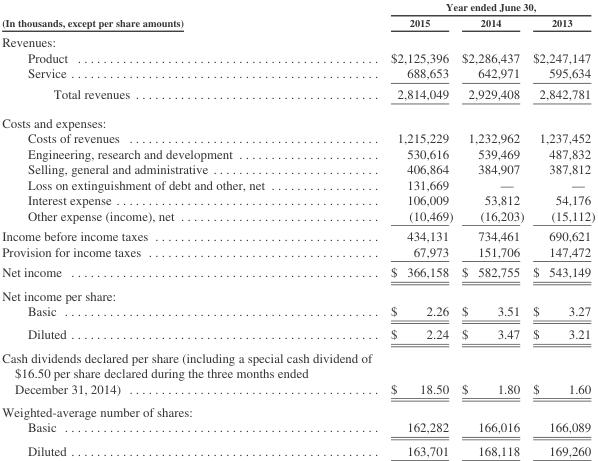table: (1, 0, 594, 457)
table column: (1, 0, 380, 457), (380, 0, 456, 457), (456, 0, 527, 457), (527, 0, 594, 457)
table column header: (1, 0, 594, 31)
table projected row header: (1, 107, 594, 129), (1, 283, 594, 303), (1, 399, 594, 419), (1, 31, 594, 49)
table row: (1, 345, 594, 399), (1, 83, 594, 107), (1, 322, 594, 345), (1, 107, 594, 129), (1, 261, 594, 283), (1, 283, 594, 303), (1, 399, 594, 419), (1, 303, 594, 322), (1, 419, 594, 438), (1, 438, 594, 457), (1, 31, 594, 49), (1, 65, 594, 83), (1, 207, 594, 225), (1, 225, 594, 243), (1, 243, 594, 261), (1, 14, 594, 31), (1, 49, 594, 65), (1, 129, 594, 145), (1, 160, 594, 176), (1, 191, 594, 207), (1, 145, 594, 160), (1, 176, 594, 191), (1, 0, 594, 14)
table spanning cell: (1, 0, 380, 31), (380, 0, 594, 14)
